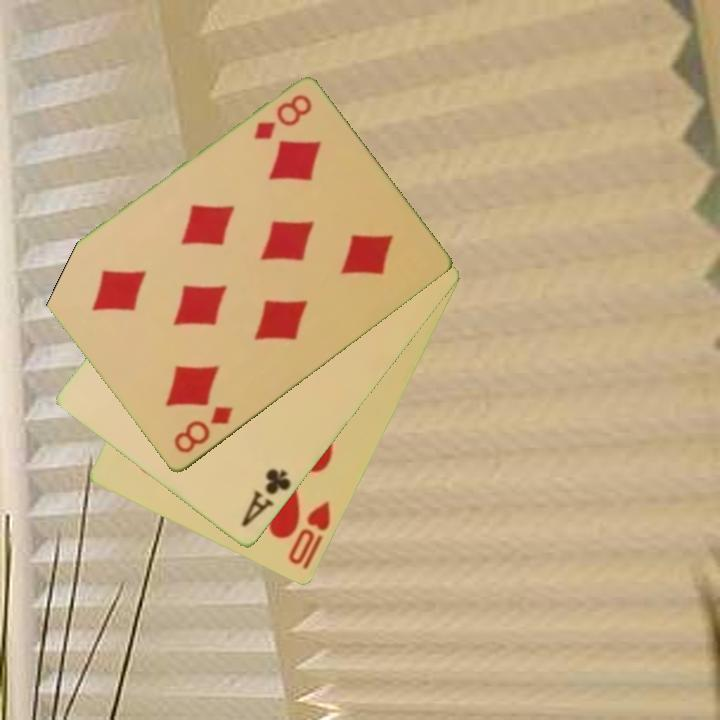10h: (285, 498, 334, 573)
8d: (170, 403, 237, 457), (250, 91, 315, 144)
Ac: (237, 465, 294, 531)
